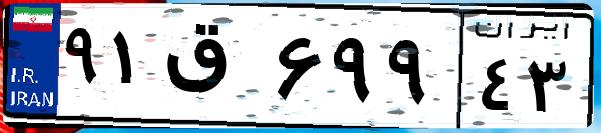1: (110, 28, 158, 98)
3: (525, 38, 570, 115)
4: (475, 38, 525, 113)
6: (270, 28, 330, 110)
9: (385, 28, 445, 110), (330, 28, 385, 110), (57, 26, 110, 100)
ق: (158, 20, 270, 120)
